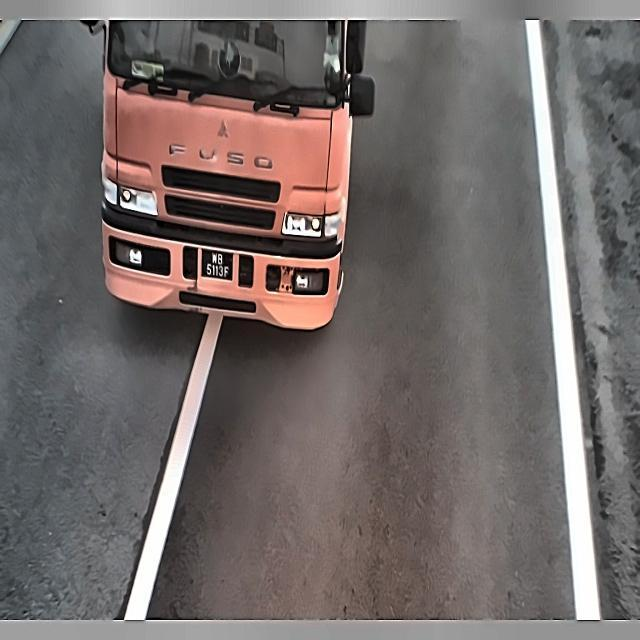car: (189, 238, 237, 286)
